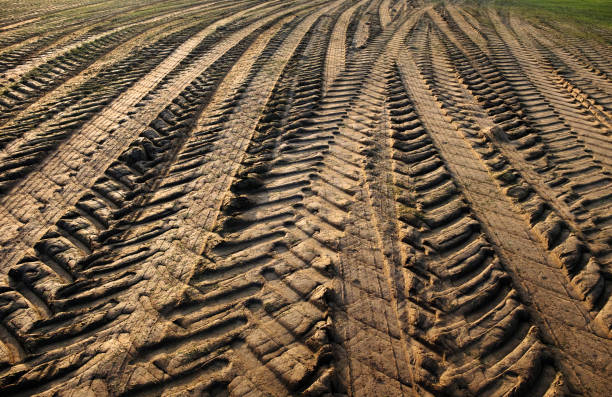vehicle_track: (0, 0, 611, 396), (5, 27, 264, 373), (317, 33, 561, 394), (3, 37, 250, 392), (415, 33, 607, 383), (4, 13, 278, 236), (388, 70, 561, 394), (446, 21, 609, 333), (0, 10, 227, 147), (487, 31, 611, 266), (0, 2, 225, 84), (511, 20, 611, 170), (0, 25, 146, 123)
